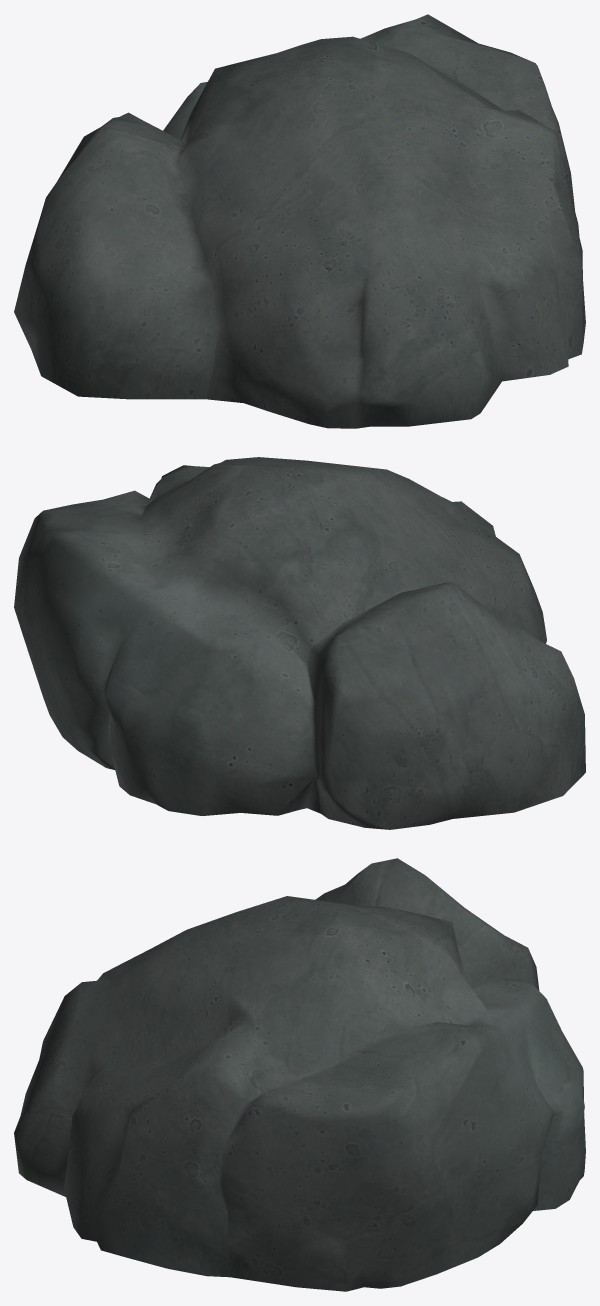
File: Cliff_Wall_Short01.fbx
The picture shows the model from 3 angles, top to bottom: view 1: azimuth 30°, elevation 25°; view 2: azimuth 150°, elevation 25°; view 3: azimuth 270°, elevation 25°; orthographic projection. The views are drawn at different scales.
Visible parts, largest first — view 1: SM_CliffWall_Small01.mo; view 2: SM_CliffWall_Small01.mo; view 3: SM_CliffWall_Small01.mo.
Part boxes in pixels (left/top/right/bottom): SM_CliffWall_Small01.mo: left=14, top=14, right=585, bottom=428; SM_CliffWall_Small01.mo: left=14, top=457, right=585, bottom=829; SM_CliffWall_Small01.mo: left=14, top=858, right=585, bottom=1291.
Bounding box in the file's own units: 940 × 449 × 848.
1 material, 1 textured.
